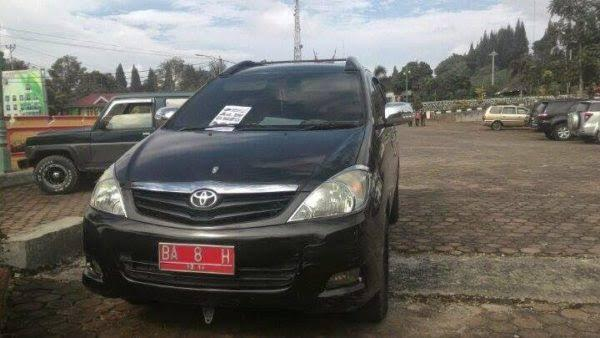plate: (157, 240, 236, 277)
